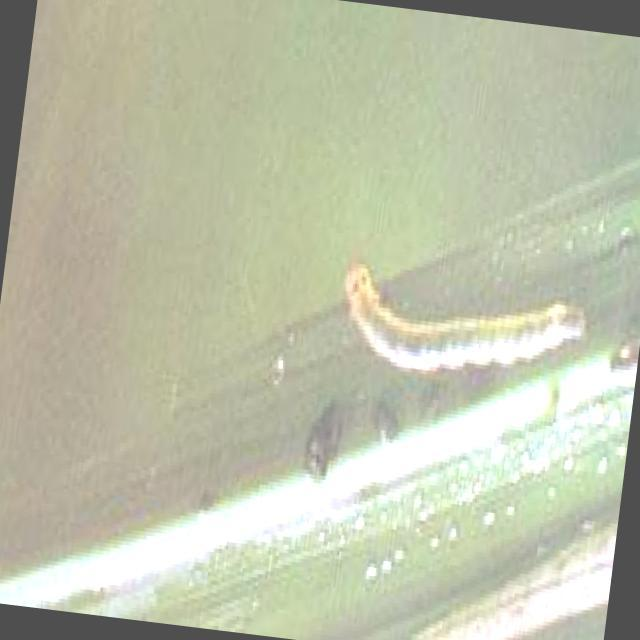leaf folder: (332, 233, 618, 384)
